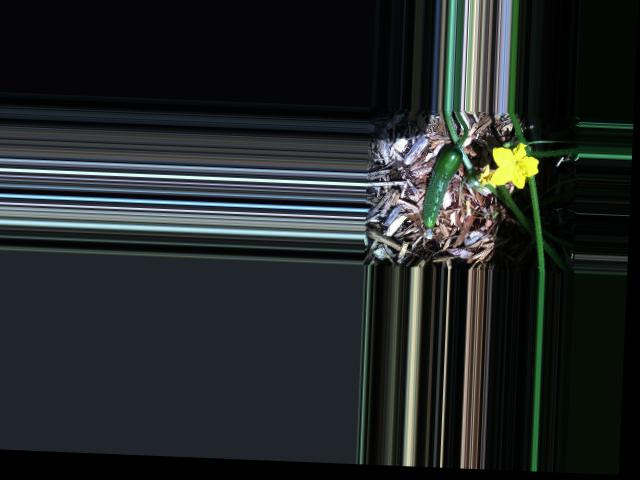cucumber: (420, 144, 463, 238)
